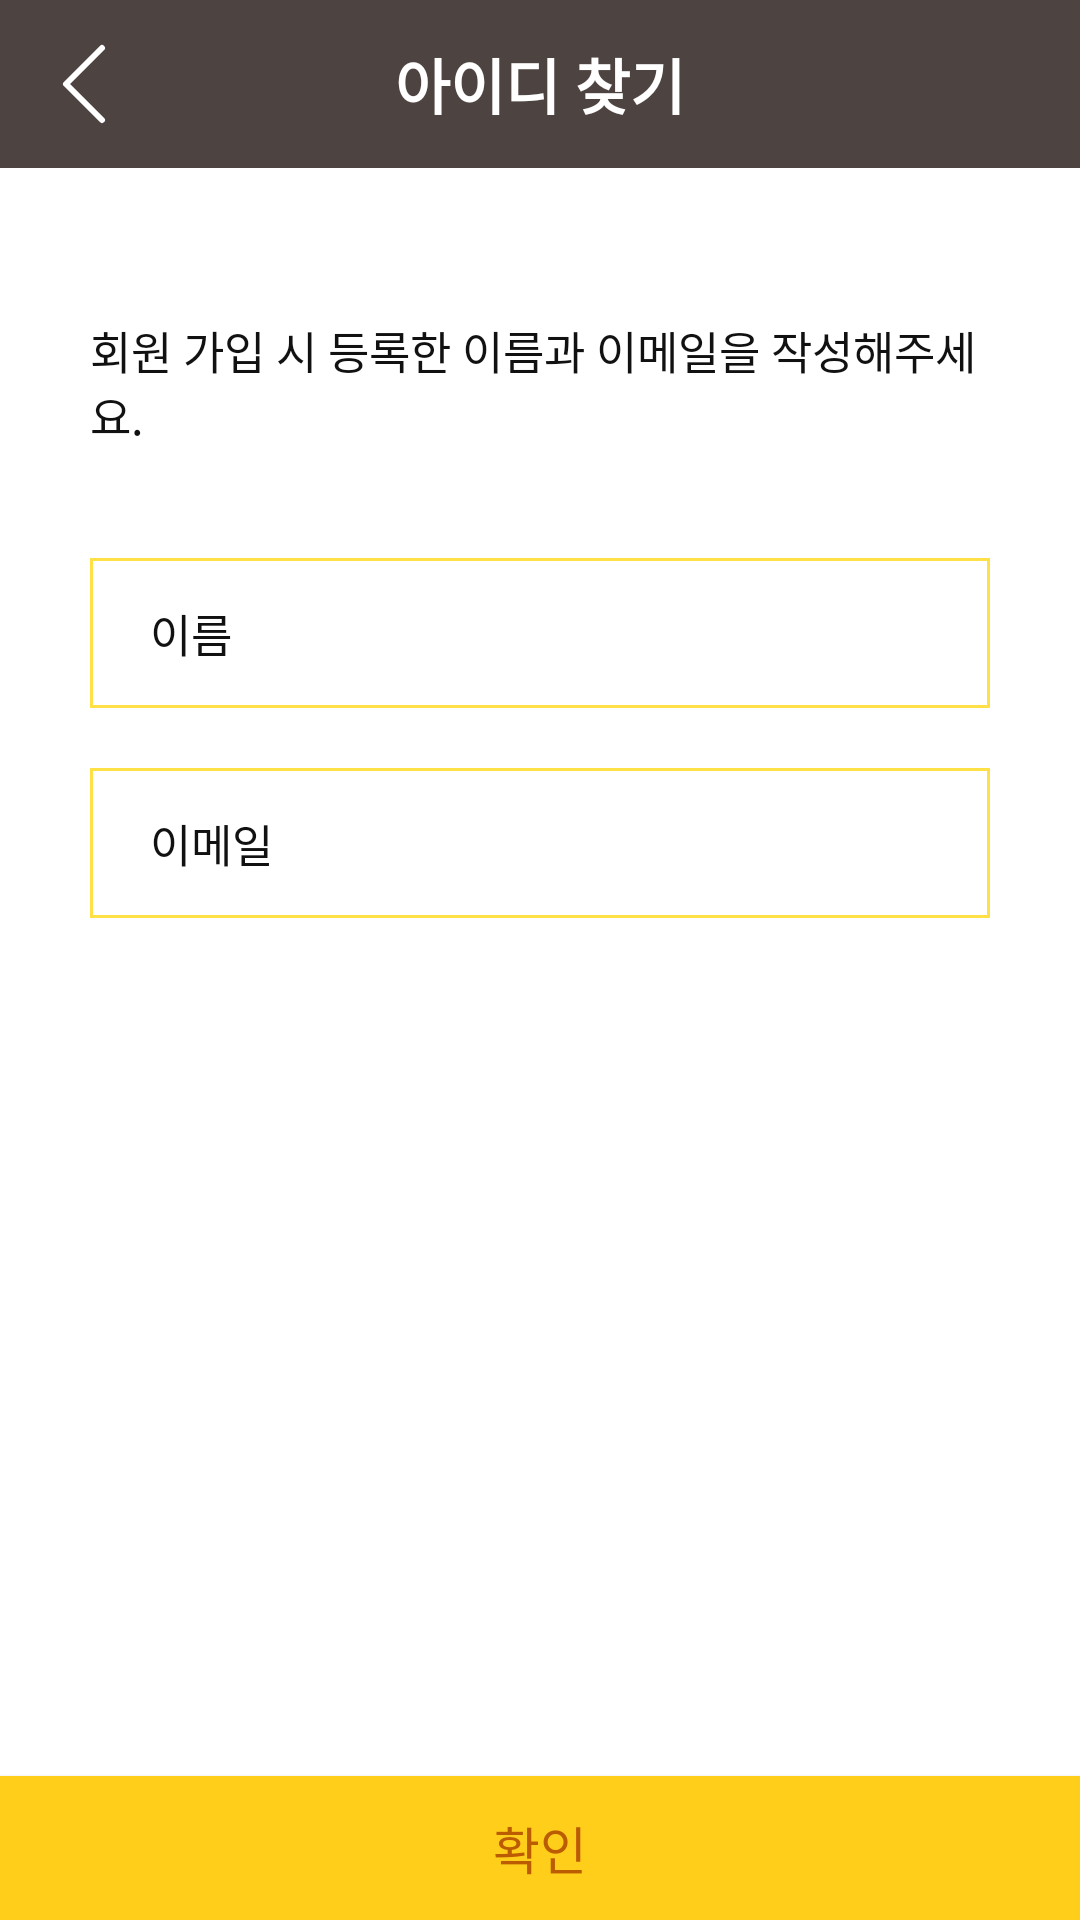

Icons on this 1080px x 1920px Android screen, each with its box as [left=x1, top=y1, right=x2, bottom=y2]:
back: [left=63, top=44, right=105, bottom=123]
